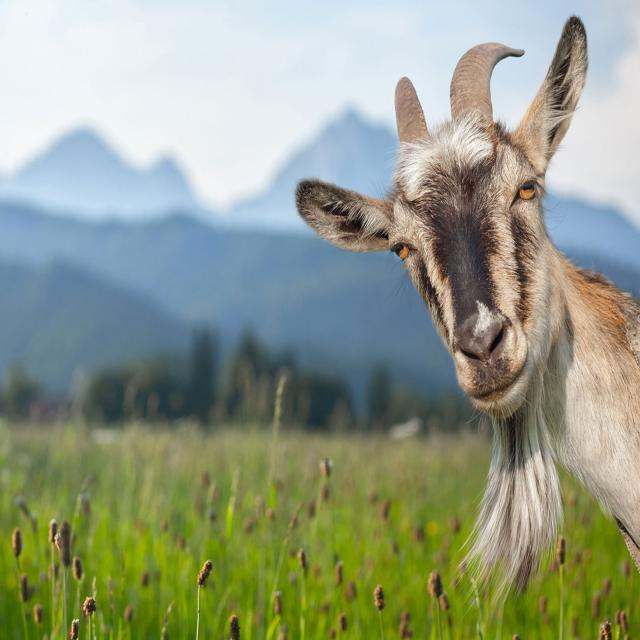Goat: (290, 12, 640, 560)
